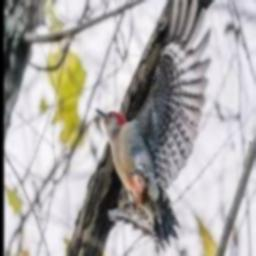Woodpecker: (96, 0, 211, 252)
